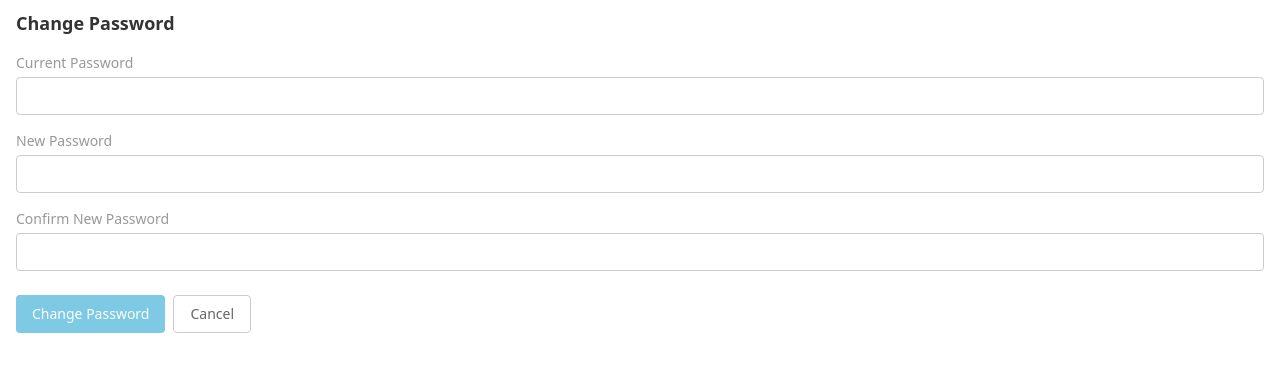
ChangePasswordPanel › shows error when password too short
In the password field below "Current Password": point(640, 96) [16,77,1264,115], type "current"
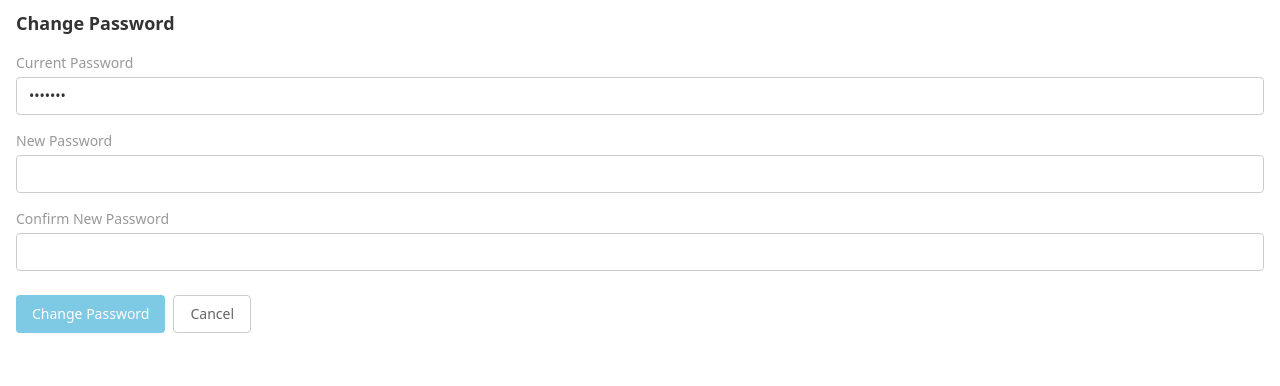
In the 2nd password field: point(640, 174) [16,155,1264,193], type "short"
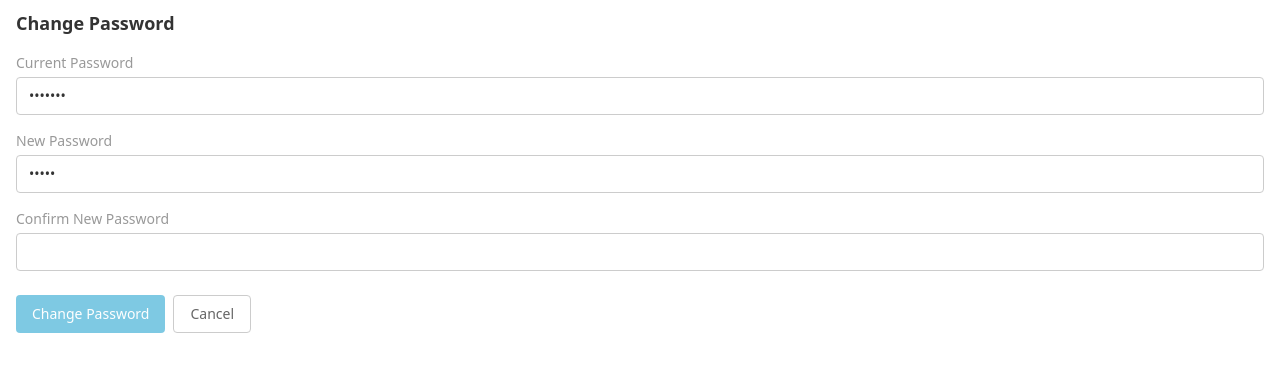
In the password field below "Confirm New Password": point(640, 252) [16,233,1264,271], type "short"
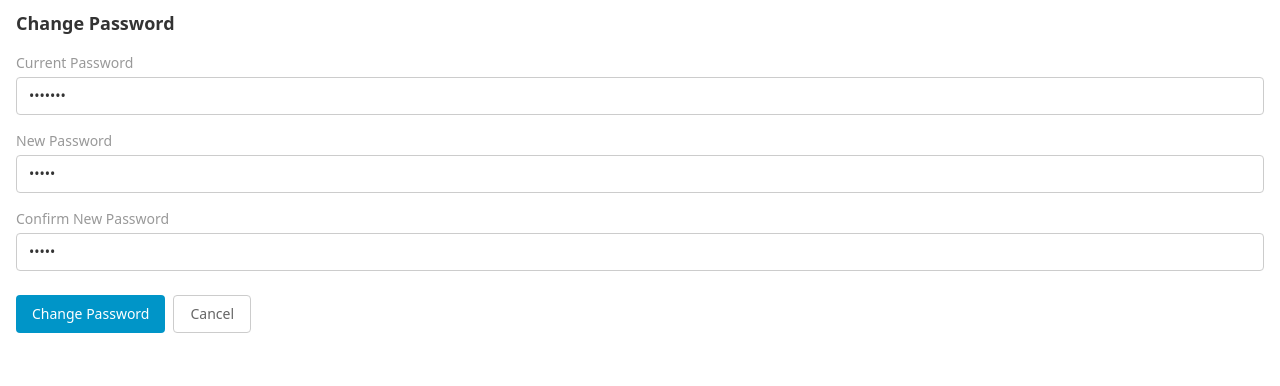
Click the button "Change Password": point(91, 314) [16,295,166,333]
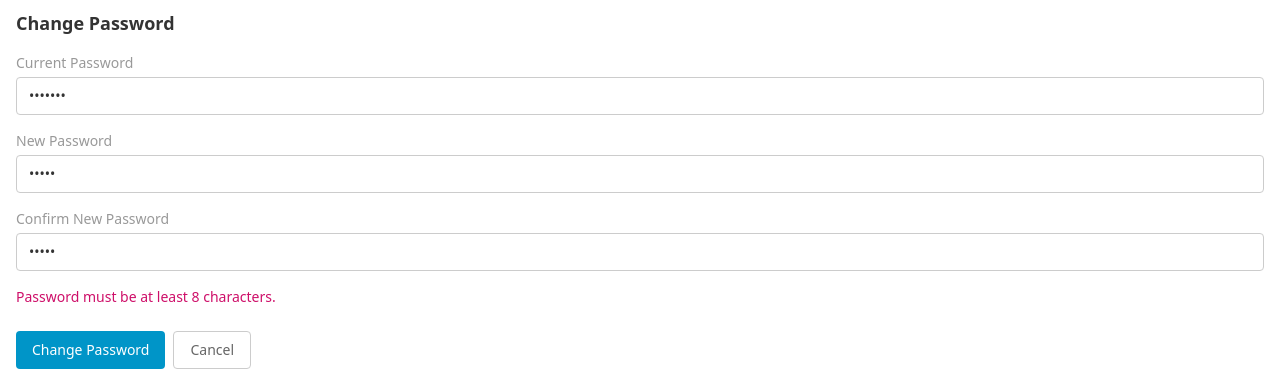
Result: the text "Password must be at least 8 characters." is shown at [16,287,276,306]
